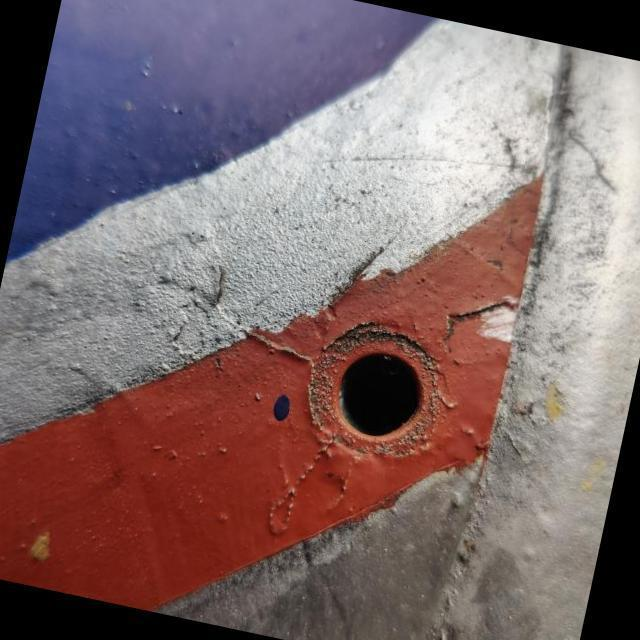Fastener Damage: (206, 211, 548, 565)
